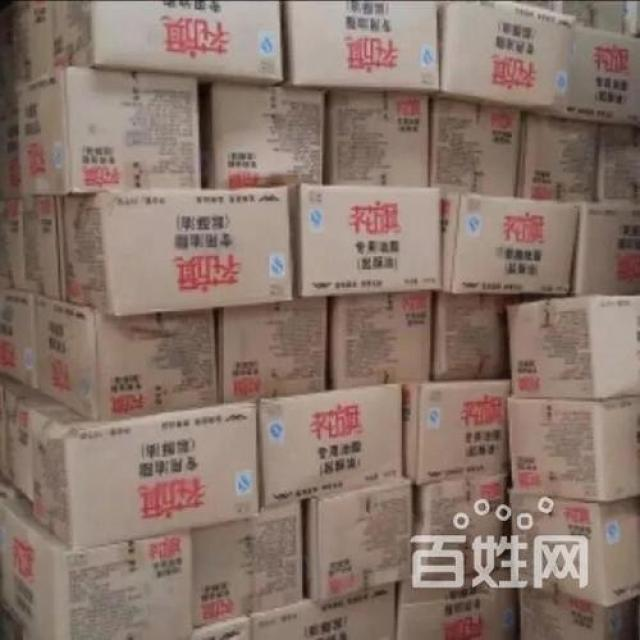box: (32, 401, 260, 547), (64, 186, 293, 316), (0, 499, 193, 639), (17, 67, 201, 195), (37, 294, 216, 420), (52, 0, 283, 86), (256, 383, 402, 506), (291, 183, 443, 296), (433, 1, 576, 114), (274, 0, 439, 96), (509, 490, 640, 607), (187, 500, 302, 627), (507, 294, 640, 399), (443, 189, 577, 293), (508, 397, 640, 502), (302, 479, 412, 602), (200, 83, 324, 189), (434, 292, 567, 381), (218, 296, 328, 403), (403, 379, 512, 484), (324, 90, 429, 187), (413, 475, 508, 580), (330, 291, 431, 388), (397, 564, 515, 640), (430, 99, 520, 196), (247, 582, 396, 640), (553, 26, 640, 124), (0, 372, 64, 498), (516, 114, 599, 201), (520, 585, 640, 640), (571, 202, 640, 294), (24, 196, 65, 302), (0, 289, 35, 389), (596, 128, 640, 200), (12, 0, 52, 79), (0, 84, 22, 198), (0, 198, 23, 289), (192, 616, 251, 639)
